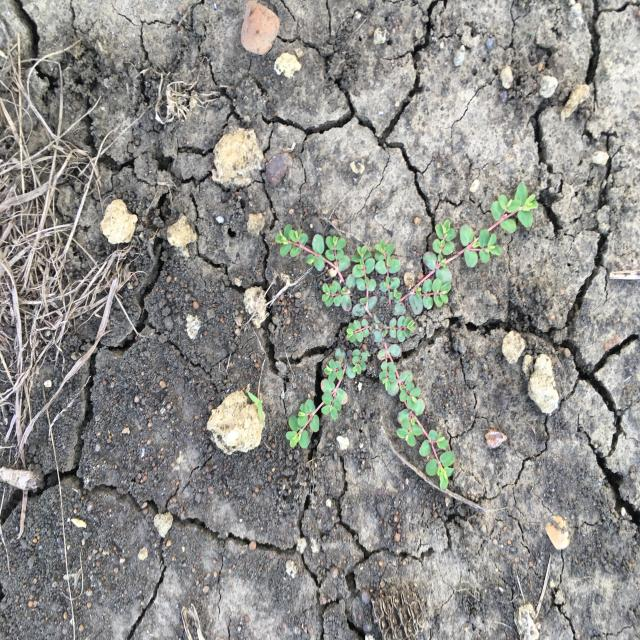PricklySida: (273, 179, 540, 492)
